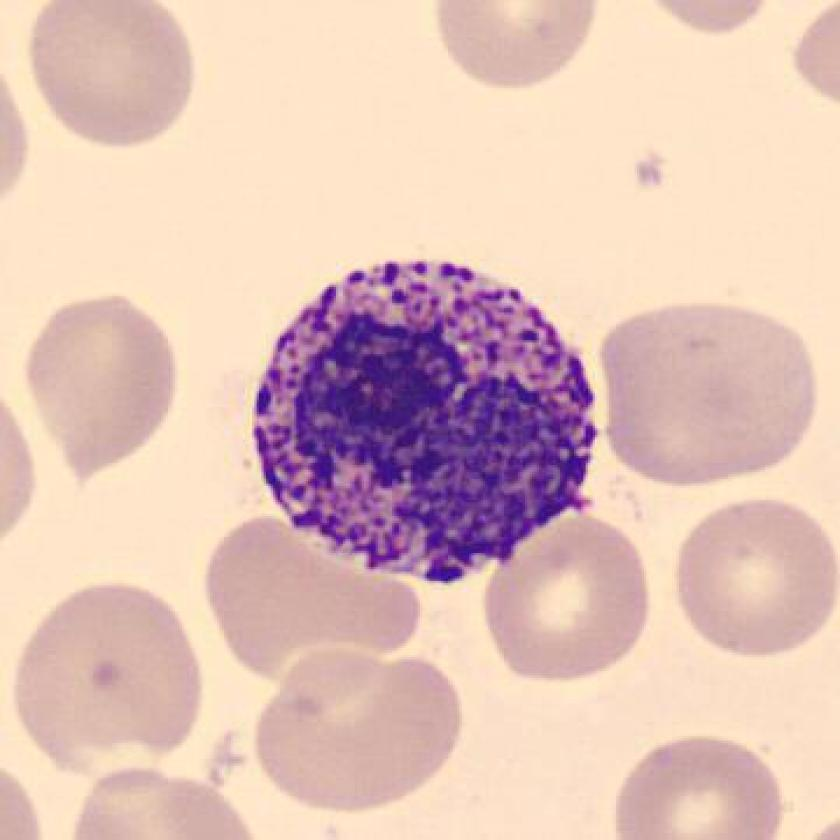basophil: (246, 239, 605, 584)
